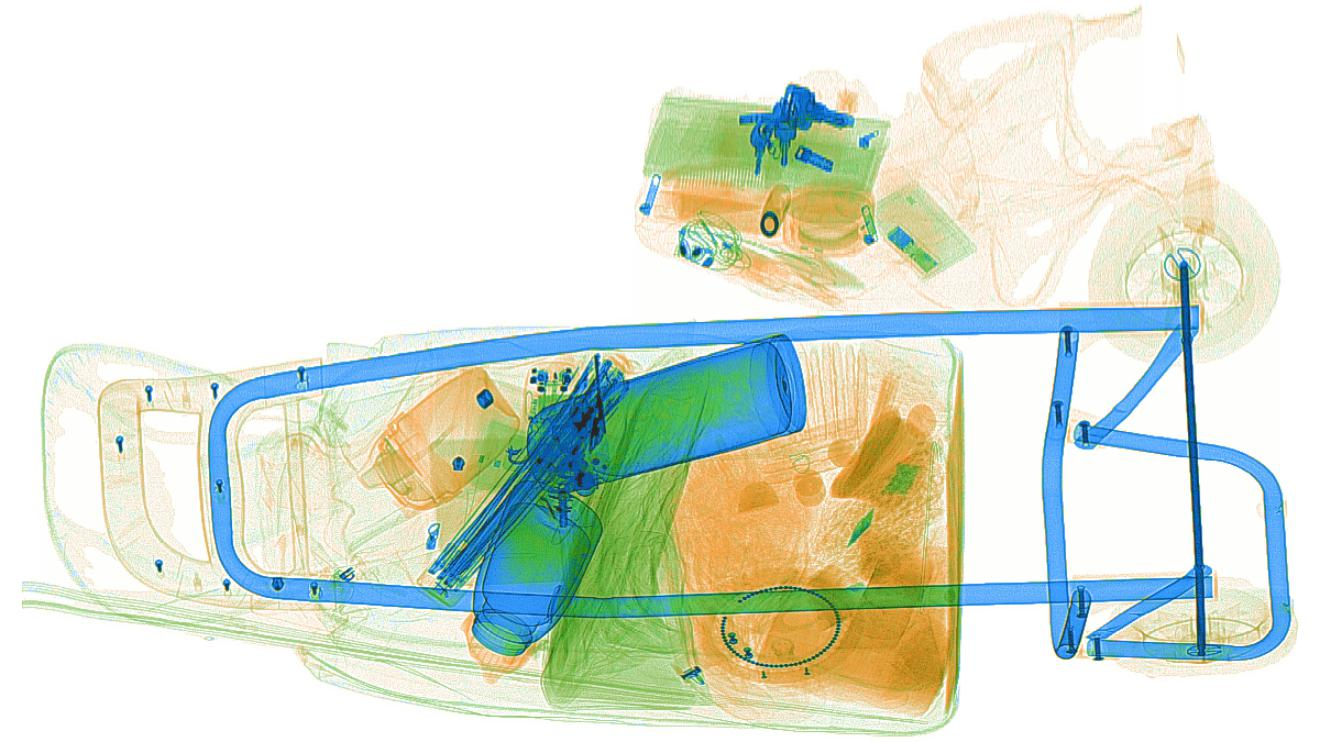USBFlashDisk: (884, 222, 941, 274)
